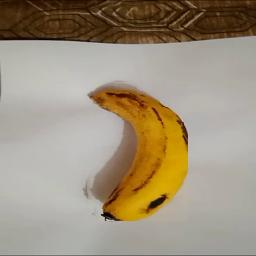Banana Semifresh: (80, 80, 188, 221)
